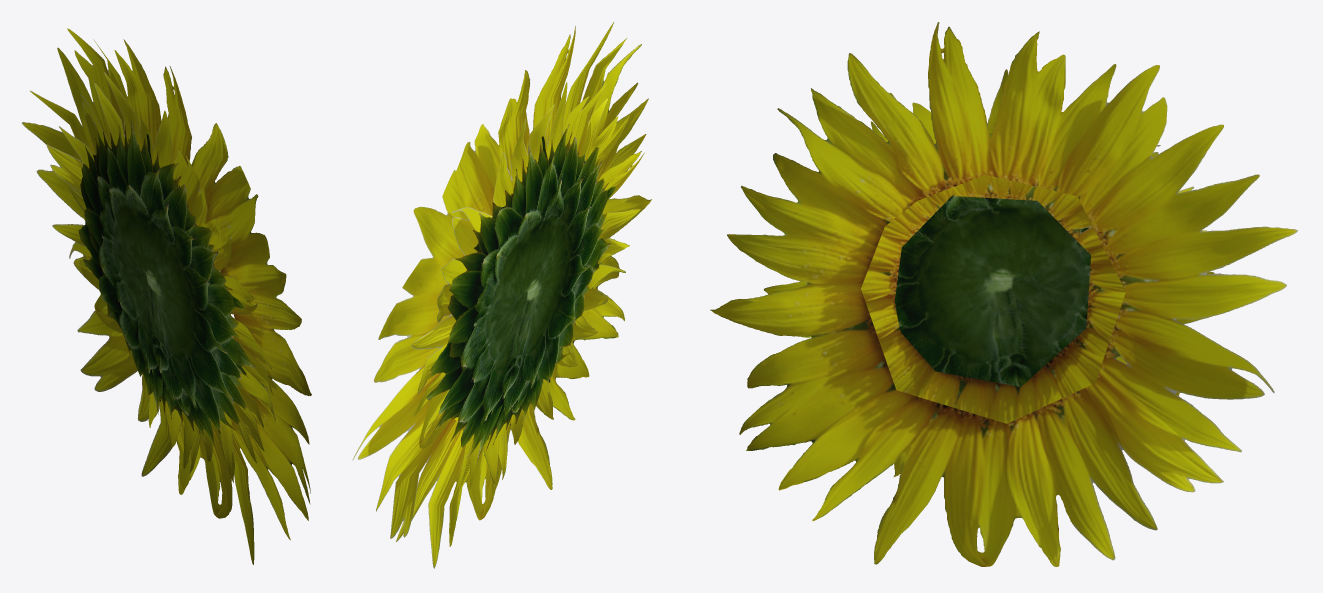
The model's file is sunflower.obj.
3 renders of one model, left to right at view 1: azimuth 30°, elevation 25°; view 2: azimuth 150°, elevation 25°; view 3: azimuth 270°, elevation 25°, orthographic. The views are drawn at different scales.
Visible parts, largest first — view 1: obj1.003, obj1.001, obj1.002; view 2: obj1.003, obj1.001, obj1.002; view 3: obj1.003, obj1.001, obj1.002.
Boxes of the visible parts, box(x1,y1,x2,y2) form: obj1.003: box(22, 28, 311, 564); obj1.001: box(78, 121, 255, 446); obj1.002: box(46, 72, 275, 482); obj1.003: box(352, 22, 651, 568); obj1.001: box(426, 124, 615, 462); obj1.002: box(411, 82, 644, 495); obj1.003: box(710, 22, 1297, 566); obj1.001: box(894, 196, 1090, 386); obj1.002: box(763, 69, 1214, 476).
Bounding box in the file's own units: 13.17 × 72.72 × 75.97.
Materials: 1 (1 with a texture image).
